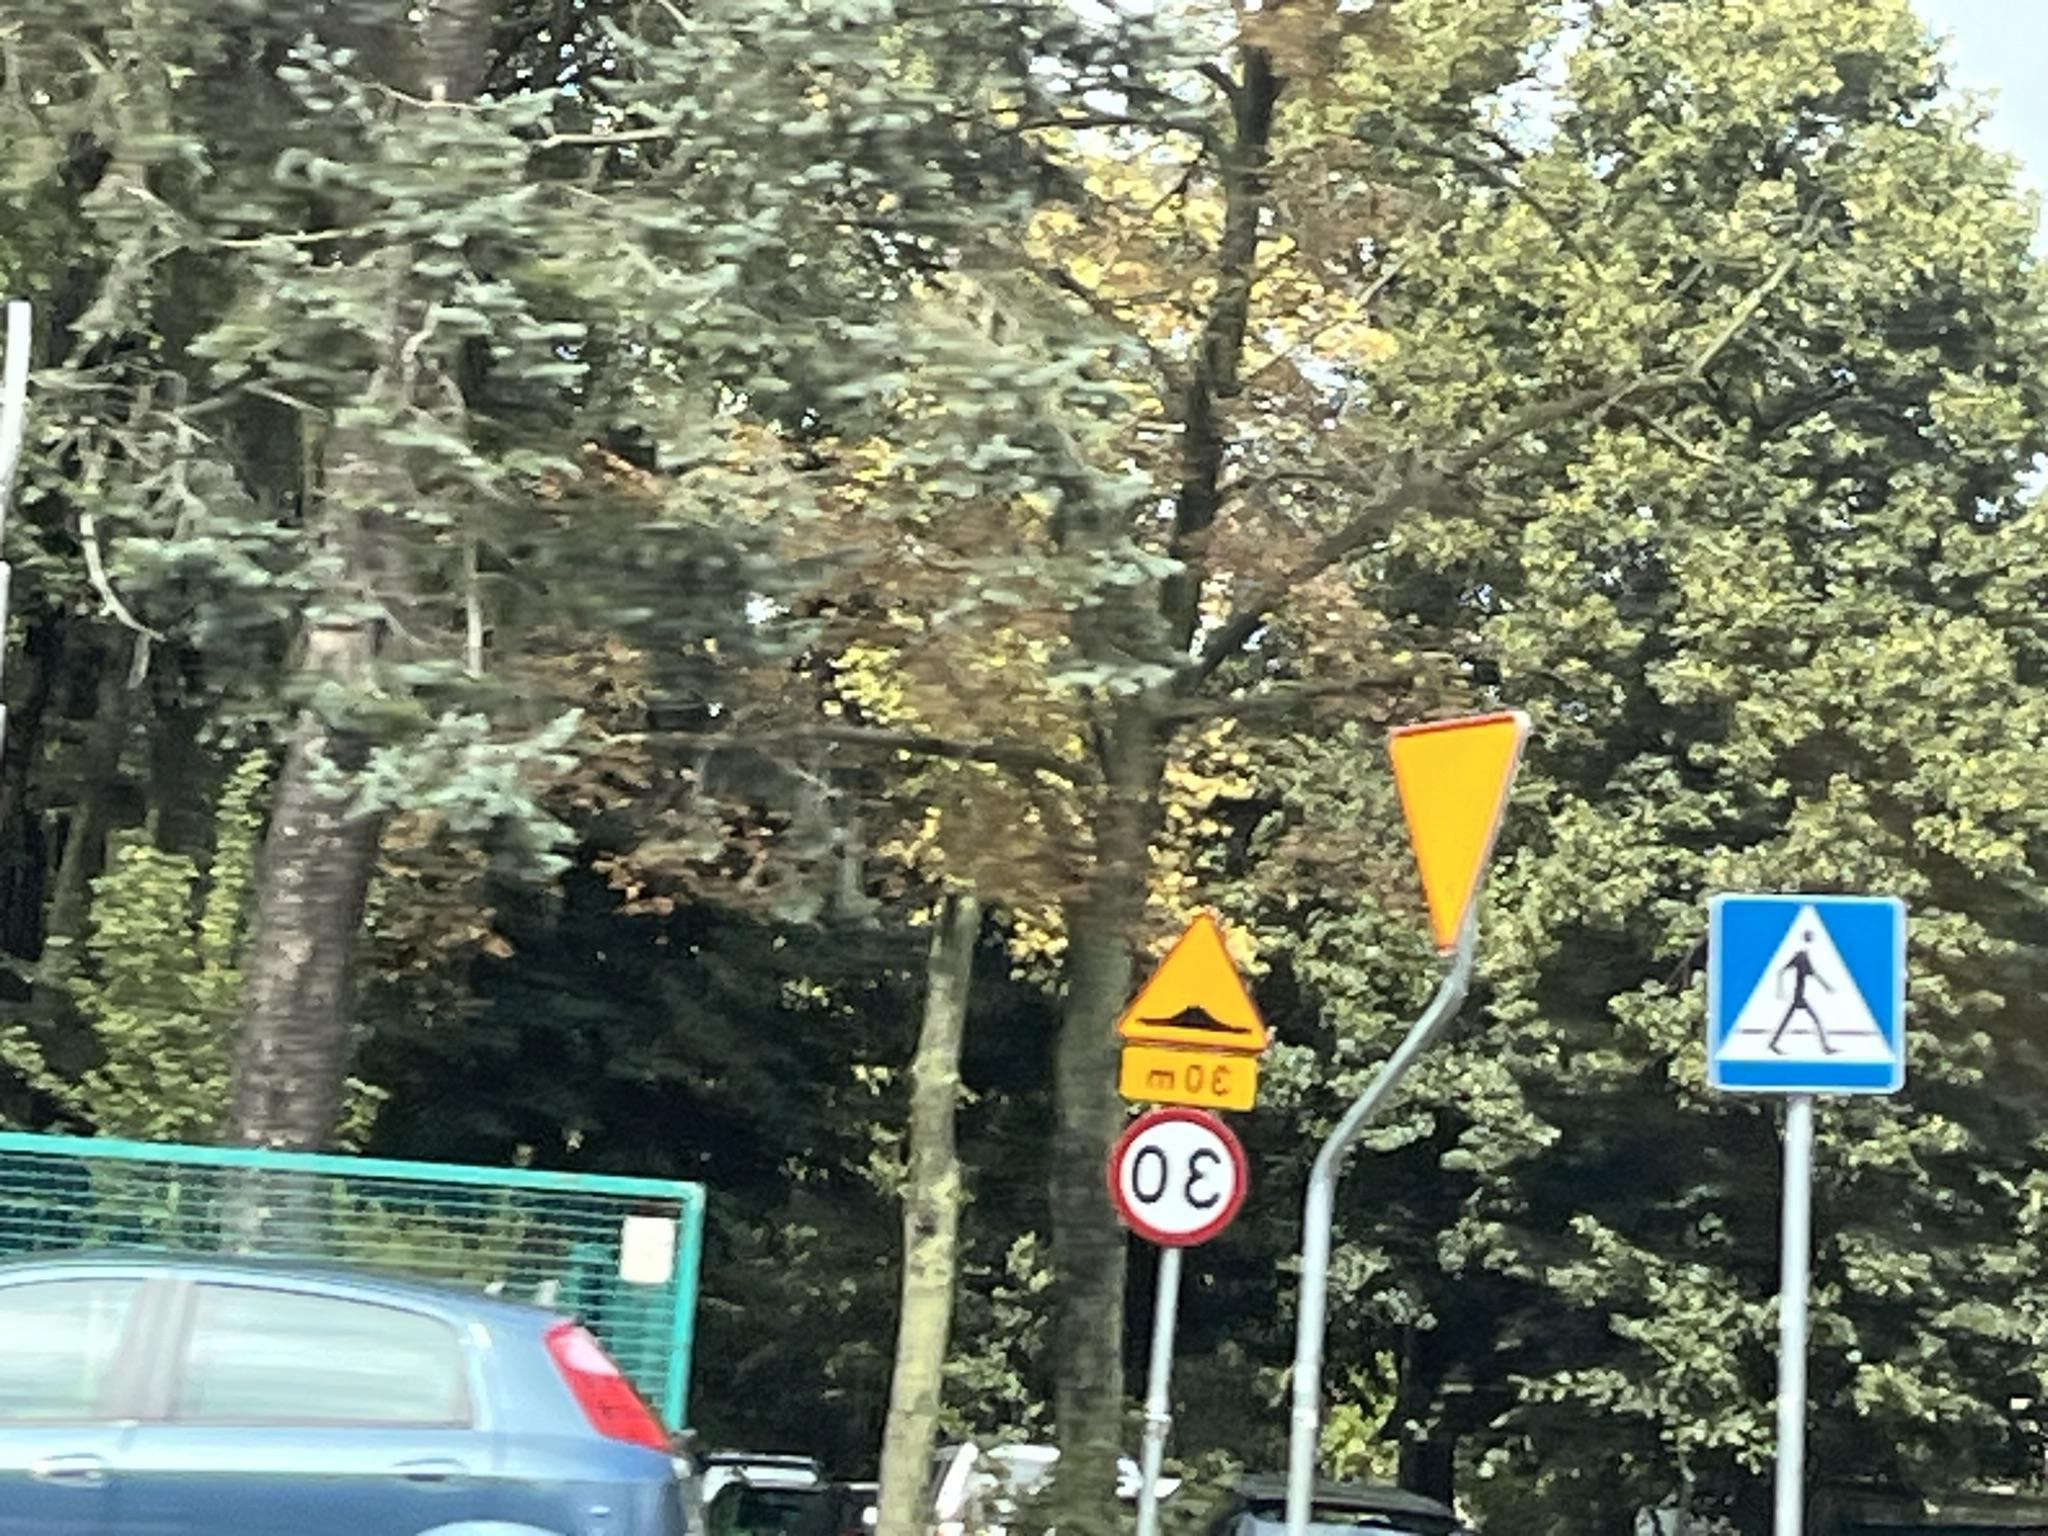information: (1702, 894, 1906, 1094)
other: (1116, 1048, 1260, 1110)
prohibitory: (1106, 1102, 1252, 1258)
warning: (1380, 704, 1534, 966), (1112, 908, 1270, 1052)
